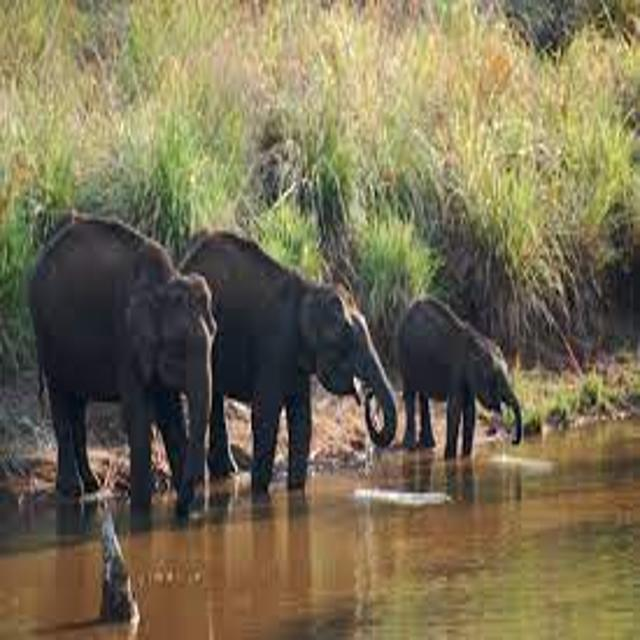elephant: (3, 186, 281, 560), (121, 208, 423, 540), (366, 272, 541, 493)
